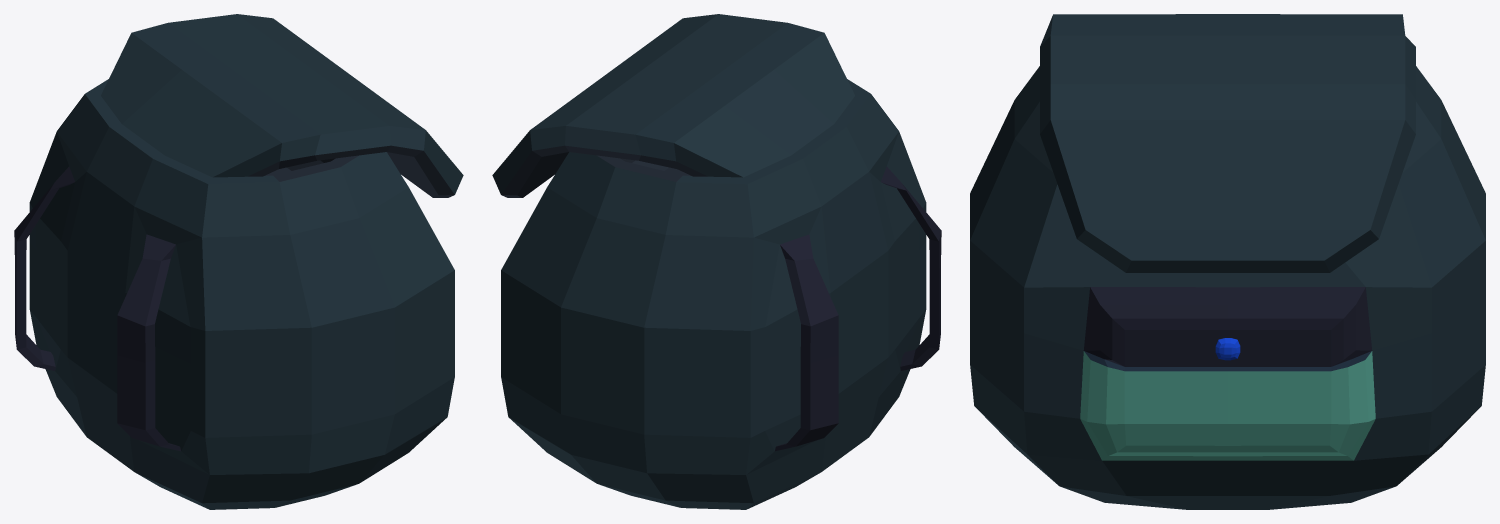
File: Bag.Closed.fbx
The picture shows the model from 3 angles, left to right: view 1: azimuth 30°, elevation 25°; view 2: azimuth 150°, elevation 25°; view 3: azimuth 270°, elevation 25°; orthographic projection. The views are drawn at different scales.
Parts seen in each view (by area): view 1: Bag.Closed; view 2: Bag.Closed; view 3: Bag.Closed.
Boxes of the visible parts, x1,y1,x2,y2 form: Bag.Closed: (14,14,463,509); Bag.Closed: (492,14,941,509); Bag.Closed: (970,14,1485,509).
Bounding box in the file's own units: 62.38 × 63.42 × 68.84.
